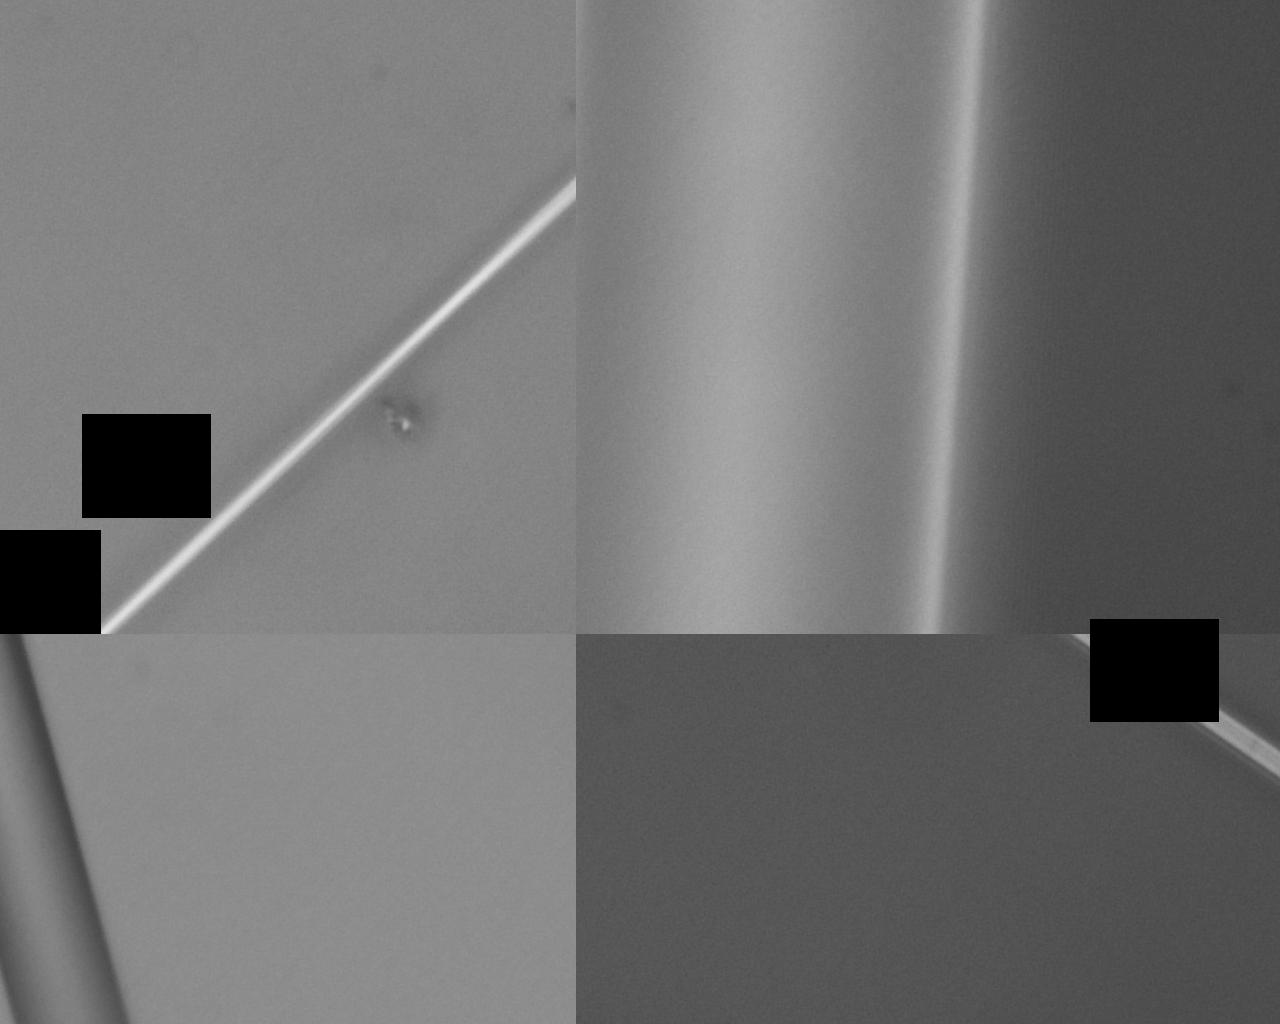fiber: (576, 0, 989, 634), (88, 175, 576, 634), (0, 634, 131, 1024)
